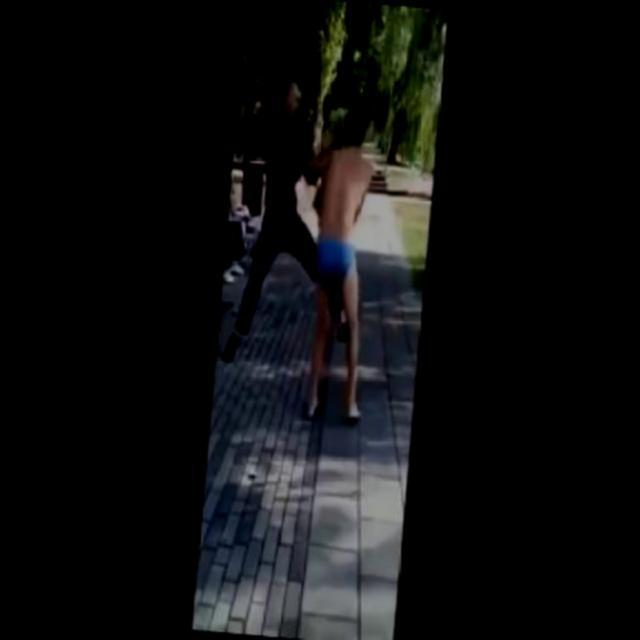fight: (222, 76, 388, 419)
